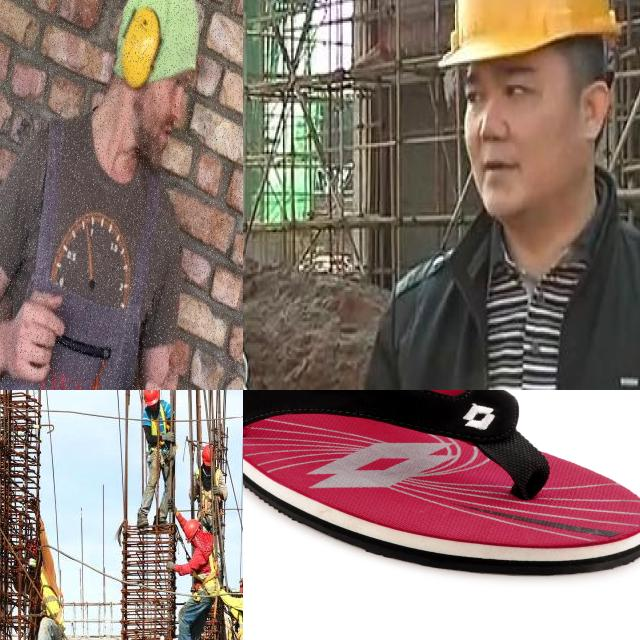Ear-protection: (120, 2, 162, 91)
No_Ear-Protection: (568, 72, 622, 148)
No_Glasses: (456, 56, 550, 124)
Sandals: (243, 390, 640, 577)
boots: (135, 511, 148, 526), (155, 511, 167, 524)
hand_glove: (162, 427, 175, 444), (165, 560, 175, 572), (212, 485, 221, 497)
head_helmet: (184, 516, 202, 542), (143, 390, 161, 407), (204, 444, 216, 466), (239, 573, 243, 591)
person: (126, 390, 181, 534), (124, 390, 176, 526), (221, 567, 243, 640)
vest: (33, 568, 64, 622), (234, 595, 243, 640)
